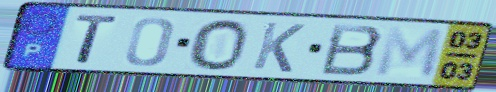0: (122, 15, 178, 68)
B: (318, 22, 387, 78)
K: (249, 20, 308, 75)
M: (372, 25, 447, 81)
O: (187, 17, 251, 72)
T: (73, 12, 121, 66)
